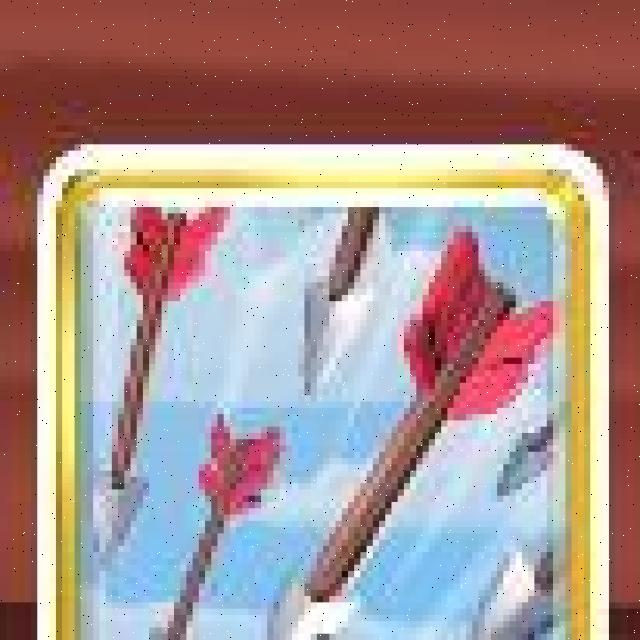Arrows: (43, 150, 613, 640)
